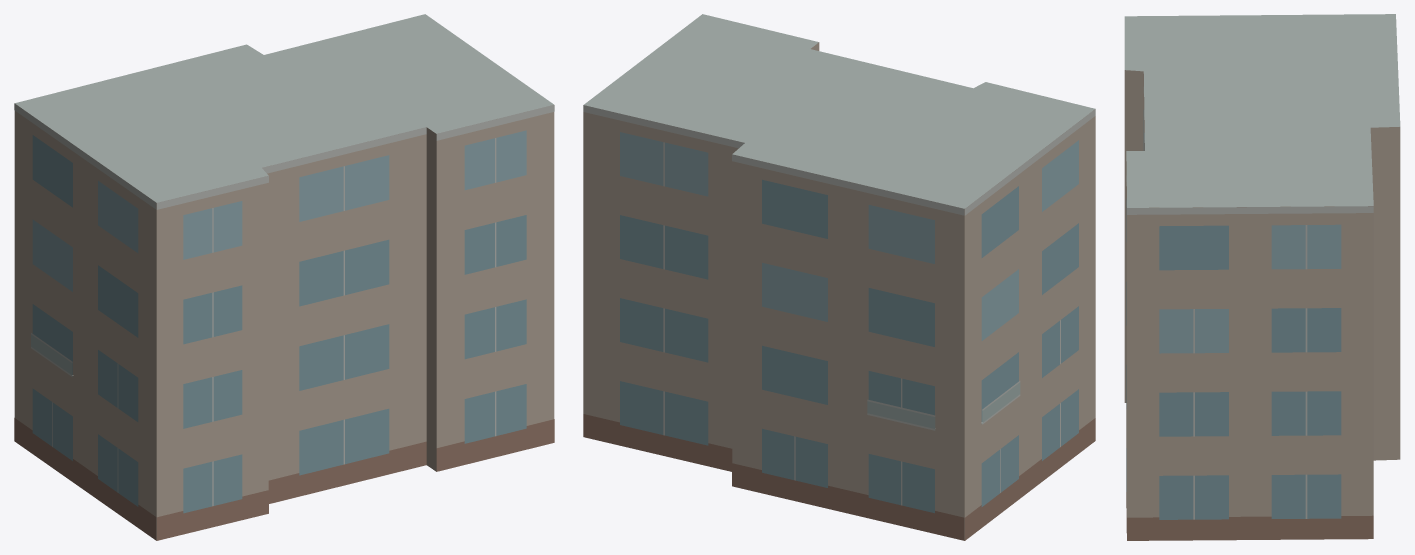
The model's file is survey-upis-32637430.glb.
3 views of the same model, side by side, from view 1: azimuth 30°, elevation 25°; view 2: azimuth 150°, elevation 25°; view 3: azimuth 270°, elevation 25° (orthographic).
Visible parts, largest first — view 1: survey-upis-32637430.tmp; view 2: survey-upis-32637430.tmp; view 3: survey-upis-32637430.tmp.
Boxes of the visible parts, x1,y1,x2,y2 form: survey-upis-32637430.tmp: (14,14,554,540); survey-upis-32637430.tmp: (583,14,1095,540); survey-upis-32637430.tmp: (1124,14,1400,540).
Bounding box in the file's own units: 14.64 × 11.7 × 8.8.
